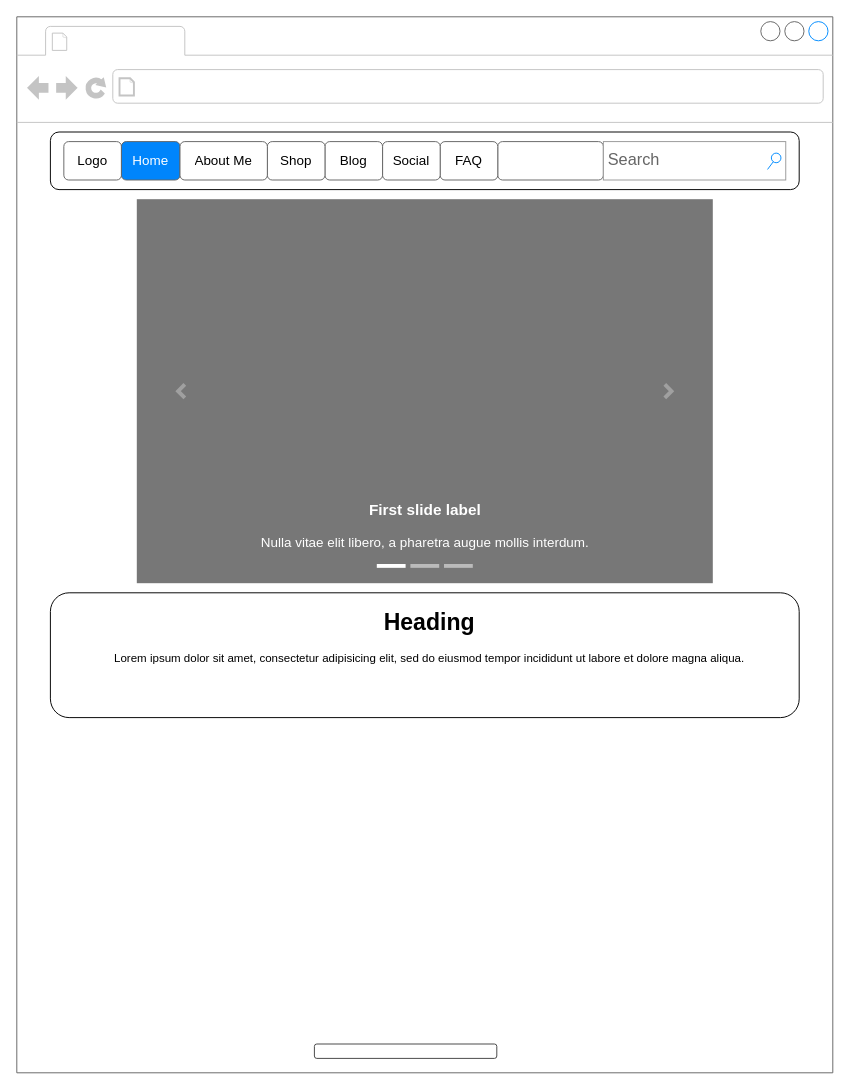
Some shapes in this 850 by 1090 pixel diagram are drawn without their labels. The shapes that lost their labels are listed below. From the top down, each one's centre as x and y in pixels, then its label:
At (x=126, y=40): "Page 1".
At (x=261, y=86): "https://www.draw.io".
At (x=550, y=160): "Dashboard".
At (x=424, y=391): "First slide".
At (x=405, y=1050): "Footer".
